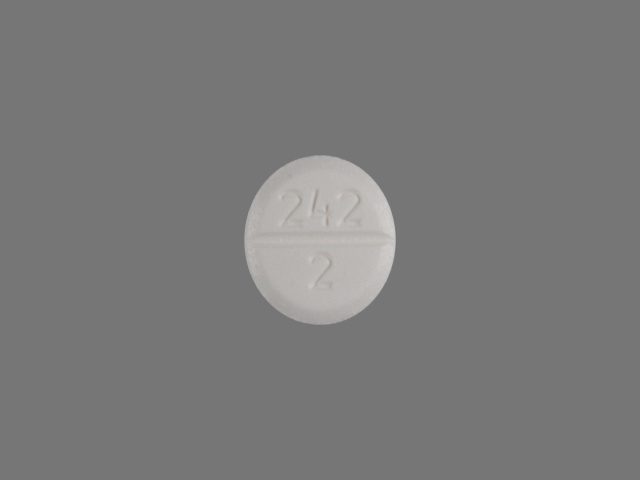2: (335, 183, 372, 226), (305, 252, 338, 298), (275, 184, 305, 226)
4: (306, 184, 334, 230)
|: (240, 227, 398, 250)
